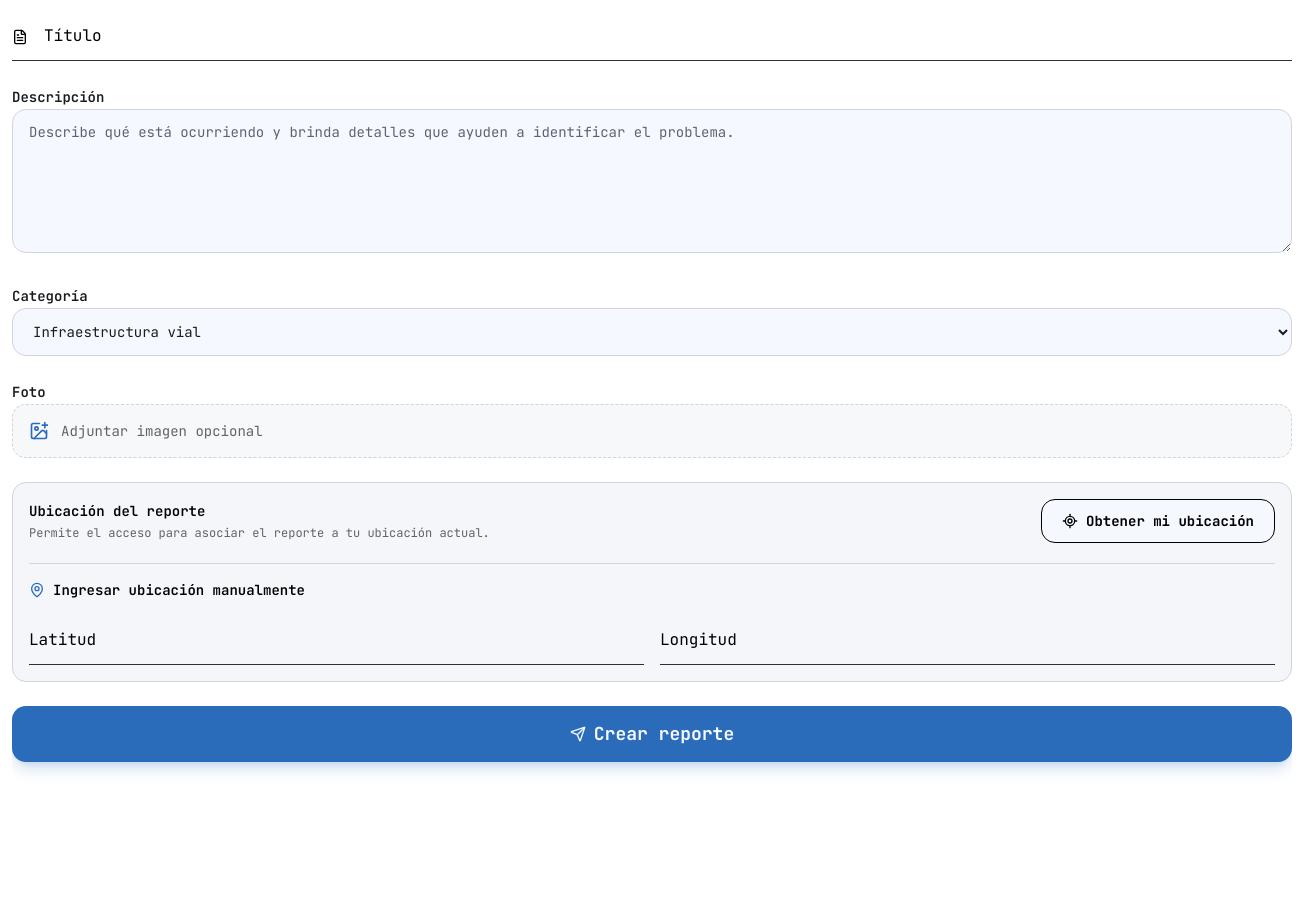
Test case: CreateReportForm › permite enviar cuando los campos obligatorios están completos
The width and height of the screenshot is (1304, 912).
In the field labelled "Título": [652, 36] box [12, 12, 1292, 61], type "Semáforo fuera de servicio"
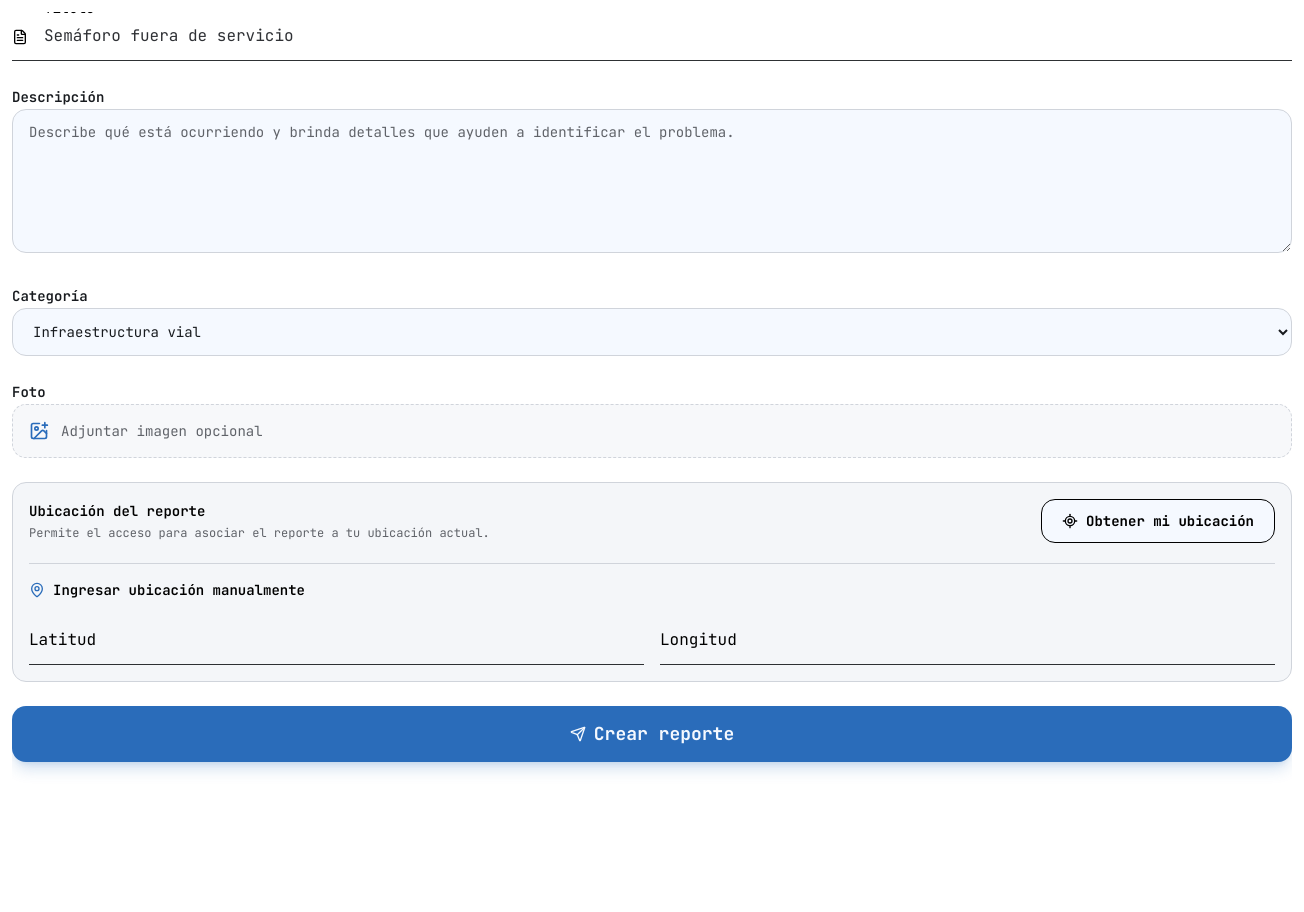
Replace the text in the text box labelled "Descripción" with "El semáforo no funciona desde esta mañana.": [652, 181] box [12, 109, 1292, 253]
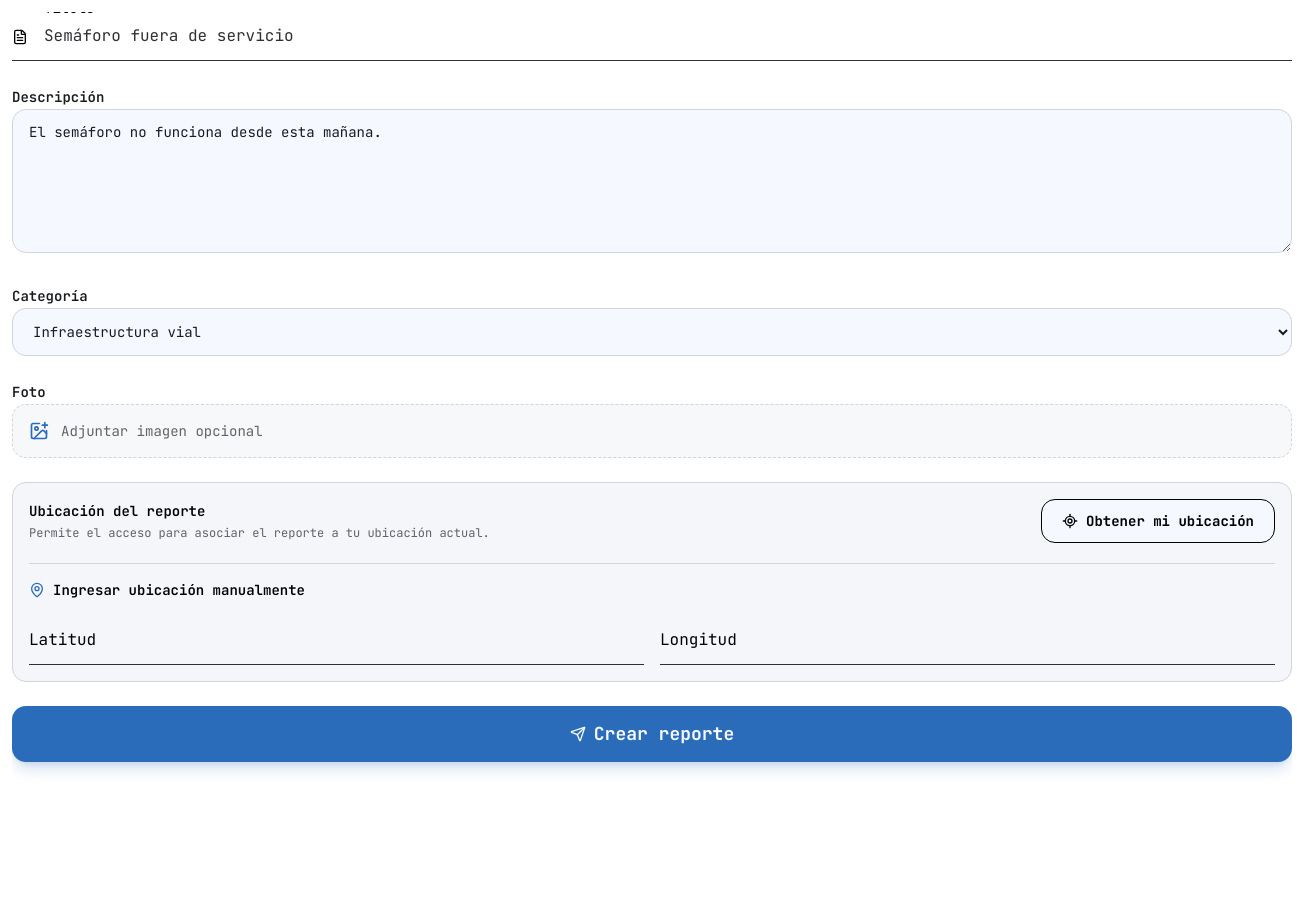
Select "Señalización vial" in the dropdown labelled "Categoría": [652, 332] box [12, 308, 1292, 356]
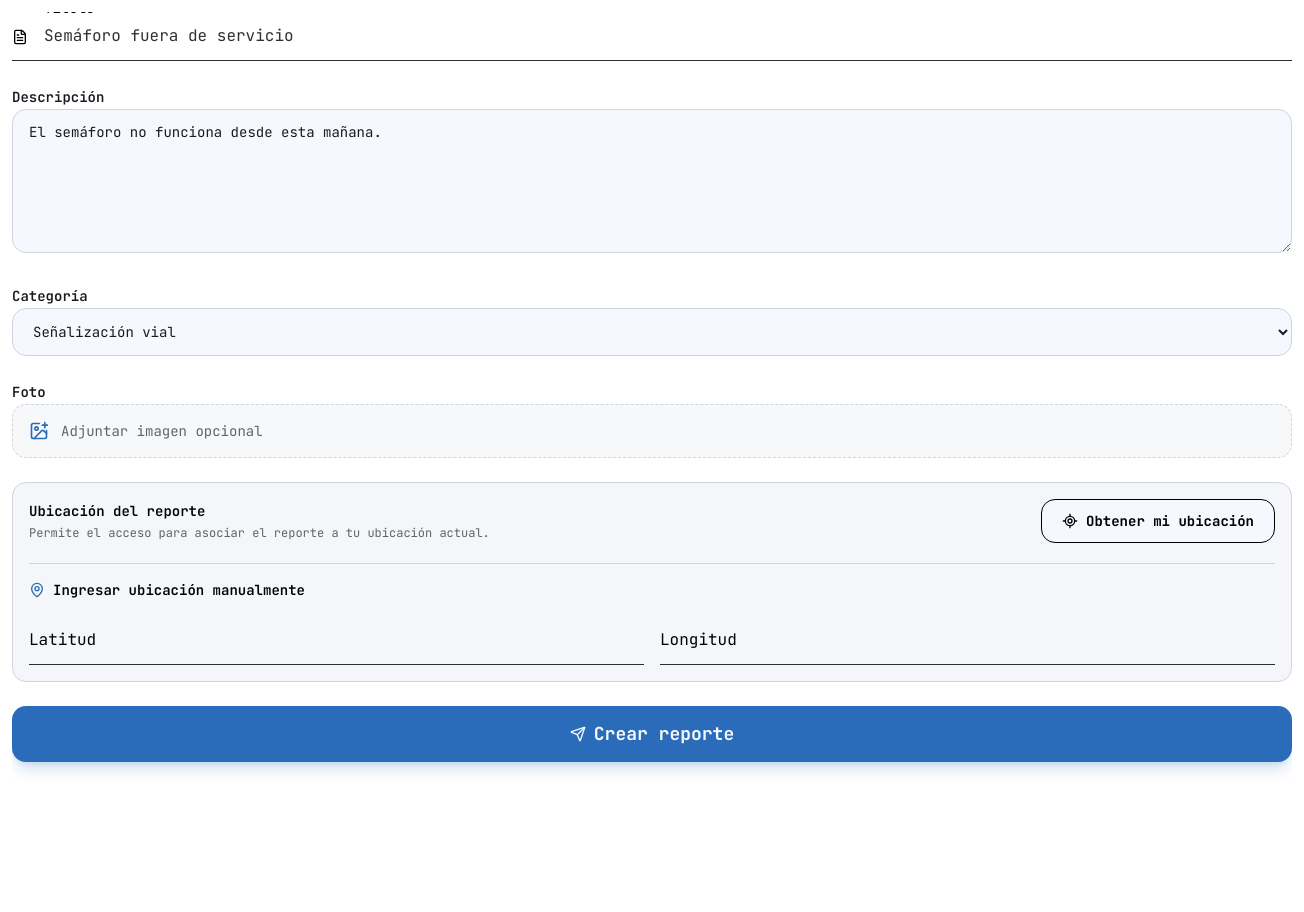
In the field labelled "Latitud": [336, 640] box [29, 616, 644, 665], type "4.653300"
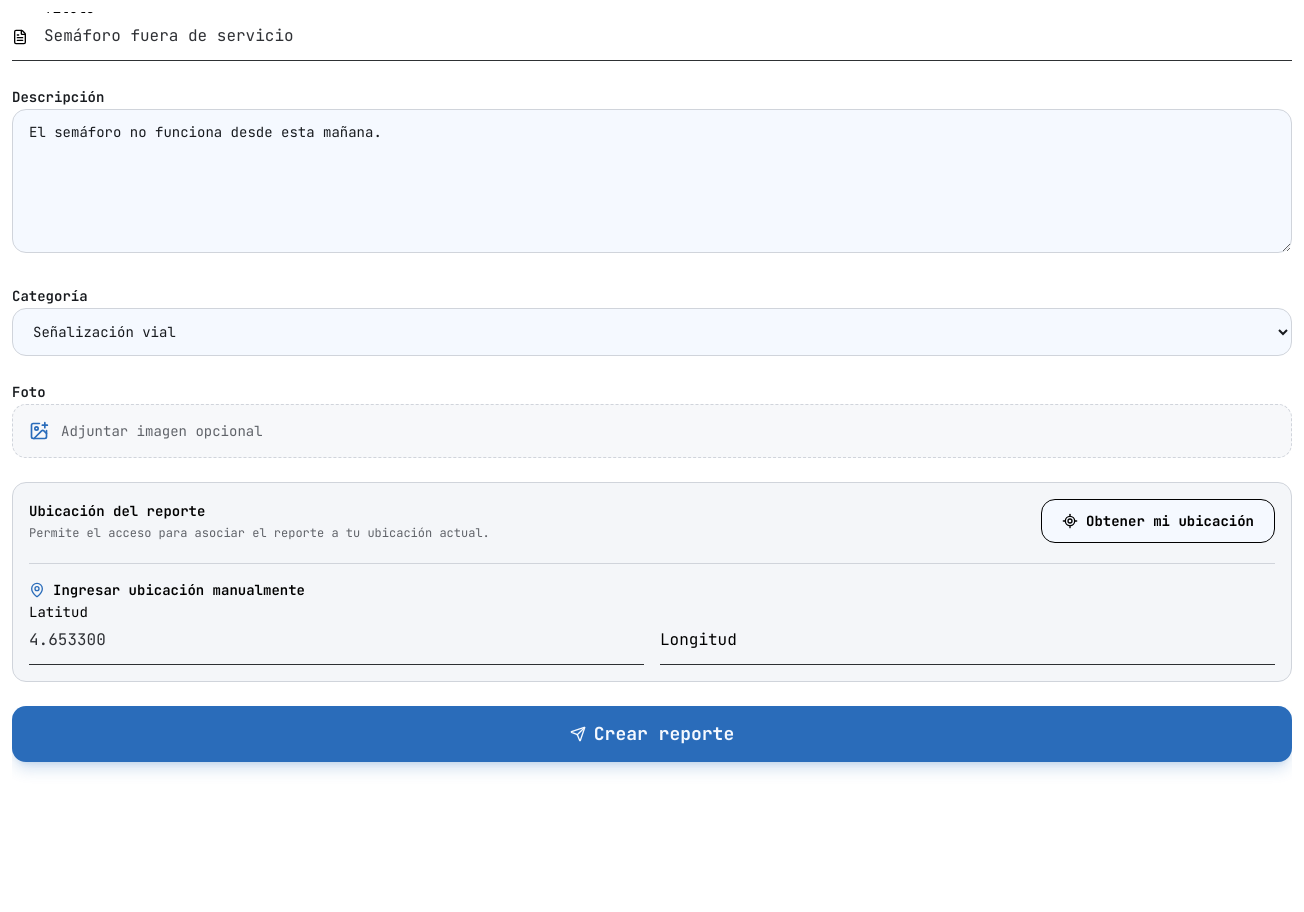
In the field labelled "Longitud": [968, 640] box [660, 616, 1275, 665], type "-74.083700"
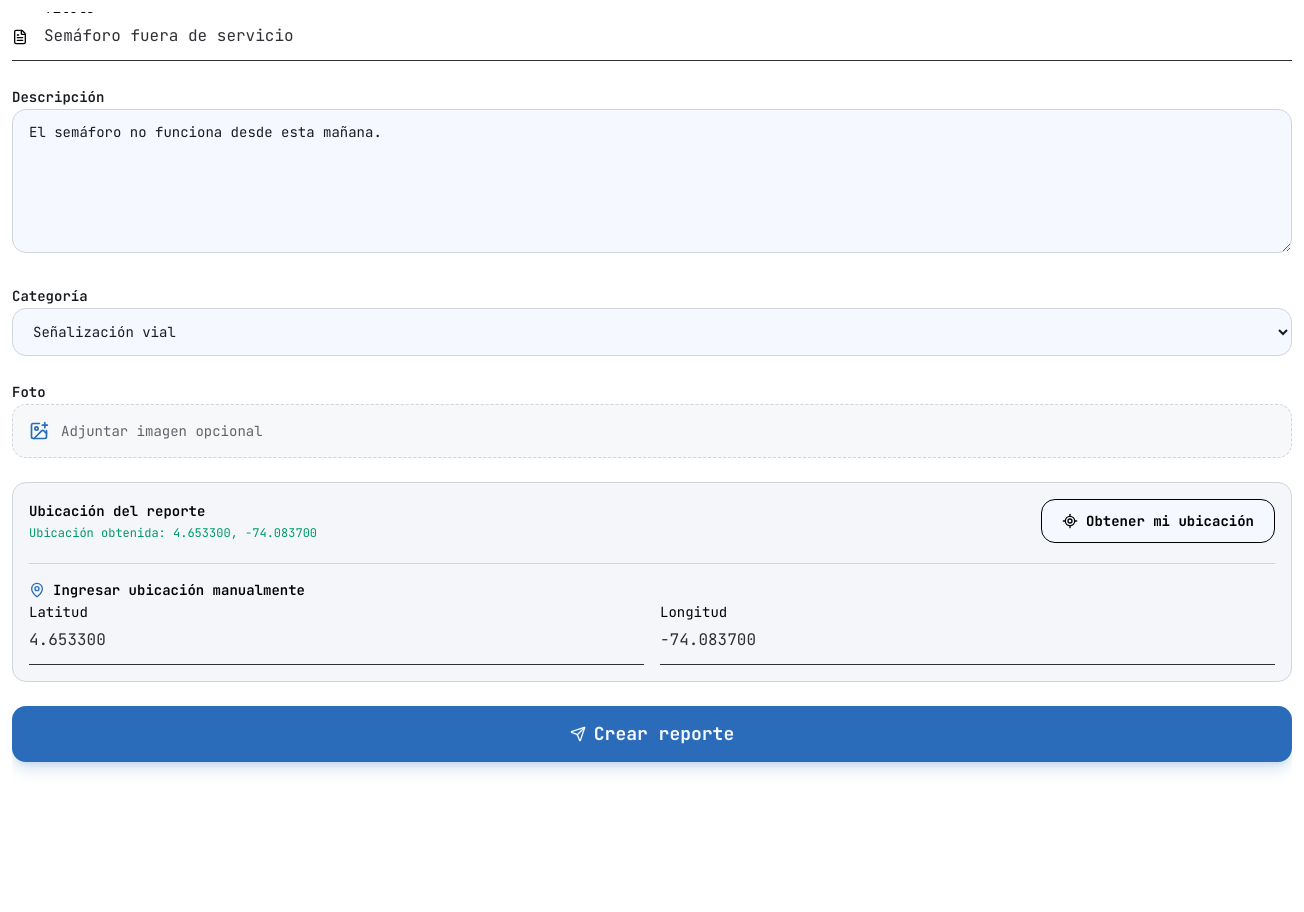
Click the button "Crear reporte": [652, 734] box [12, 706, 1292, 762]
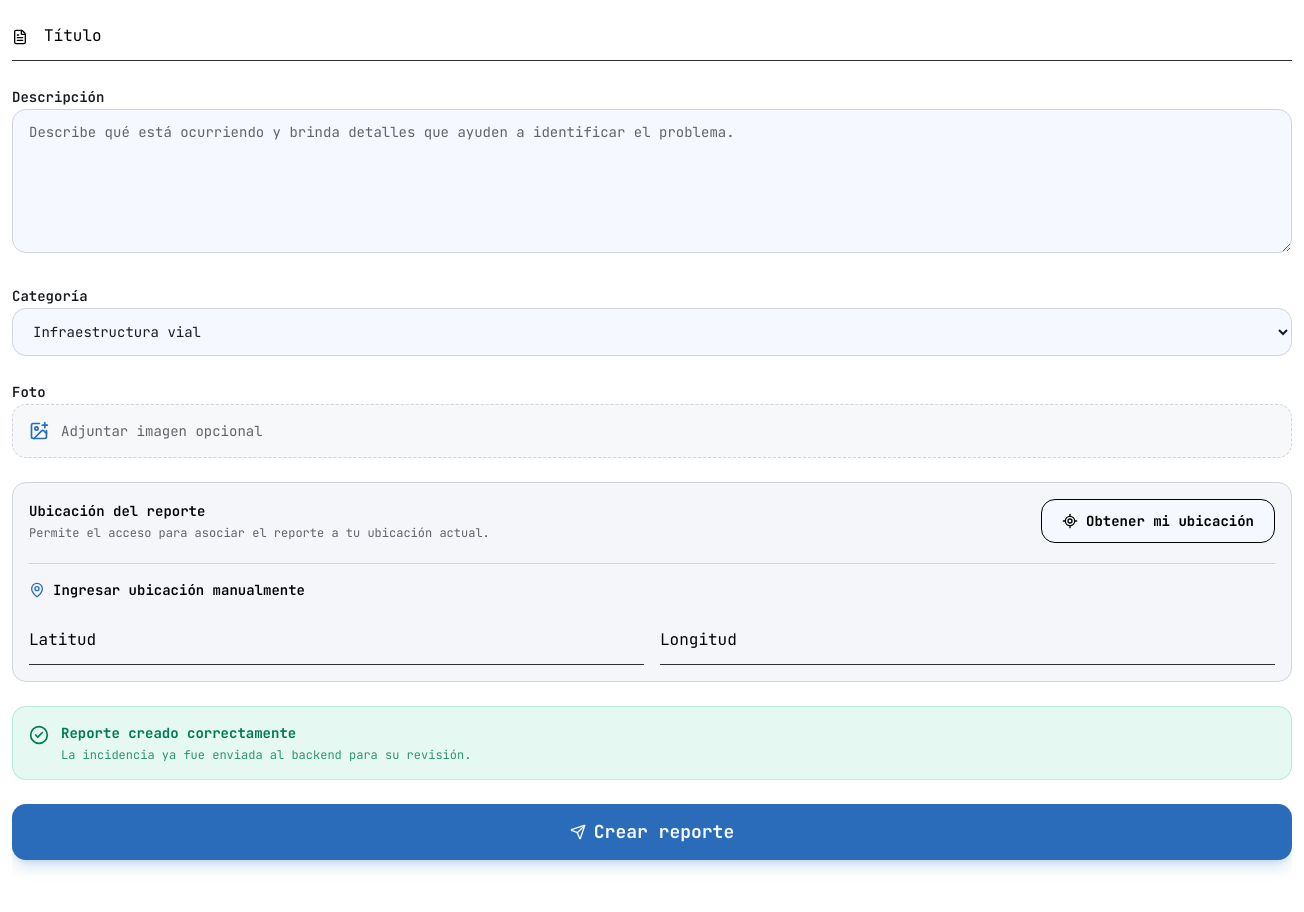
Expected: the element that starts with "Reporte creado correctamente" is shown, [61, 724, 296, 742]
